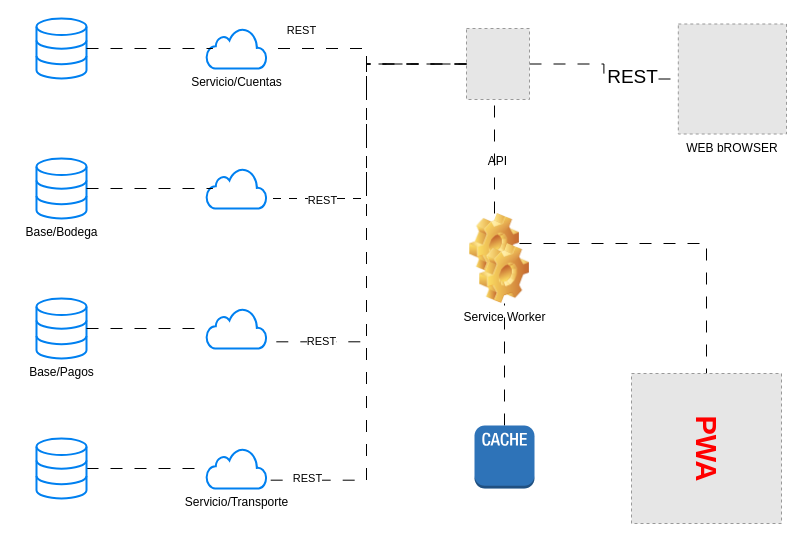
Image size: 804x550. Some labels were removed from this diagram. Grey dashed boxes stand in for pictures. The box of each missing label's shape, as (x1, y1, x2, y2) in pixels:
Base/Cuentas: (35, 17, 87, 79)
Base/Transporte: (35, 437, 87, 499)
Servicio/Bodega: (205, 167, 267, 209)
Servicio/Pagos: (205, 307, 267, 349)
